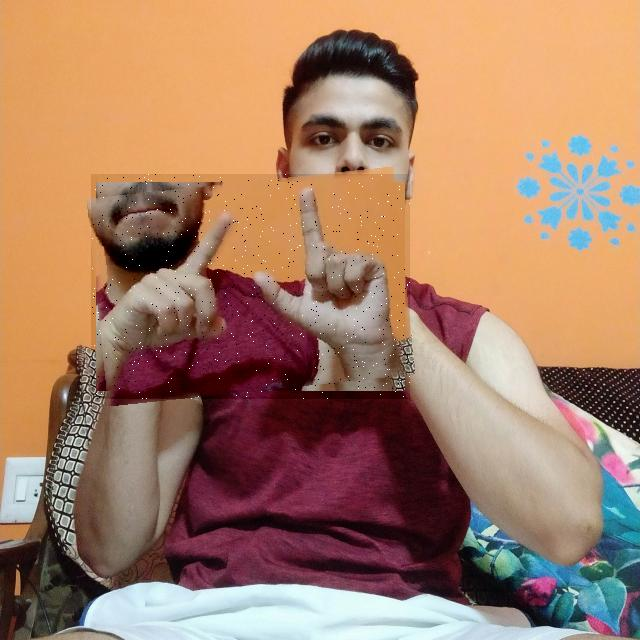J: (91, 174, 410, 399)
